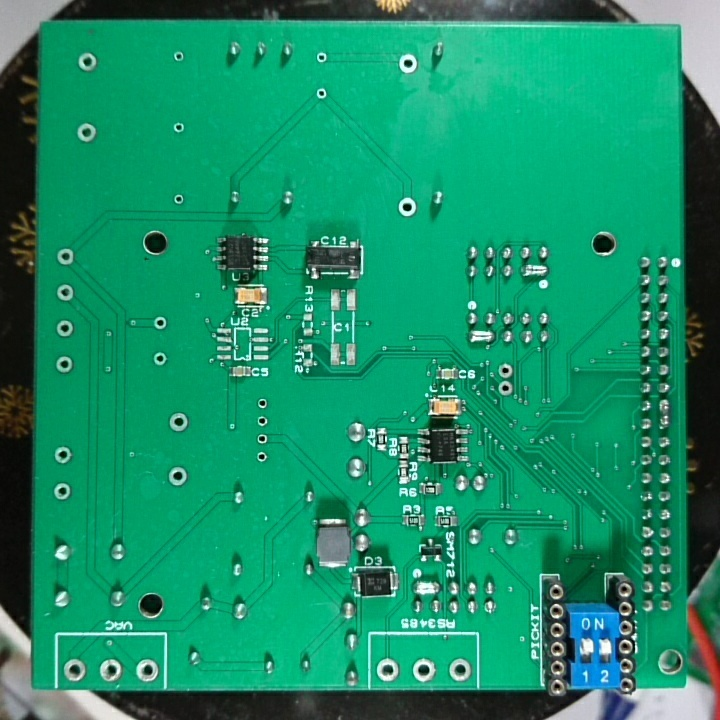F: (133, 655, 161, 685), (97, 656, 124, 684), (411, 657, 437, 685), (62, 656, 88, 684), (395, 49, 419, 79), (374, 656, 400, 683), (447, 657, 472, 683), (165, 410, 190, 436), (165, 463, 189, 489), (74, 120, 98, 146), (53, 280, 77, 305), (77, 50, 99, 76), (51, 480, 74, 504), (148, 348, 172, 371), (54, 245, 77, 269), (396, 196, 419, 220), (53, 318, 76, 341), (53, 352, 75, 376), (51, 443, 73, 466), (150, 312, 171, 334), (496, 378, 516, 398), (496, 361, 517, 380), (254, 413, 272, 431), (254, 395, 273, 412), (253, 449, 270, 466), (254, 431, 271, 448), (170, 121, 187, 138), (312, 49, 329, 65), (314, 85, 329, 103), (171, 190, 187, 206), (170, 48, 185, 64)
P: (519, 261, 549, 278), (411, 580, 441, 597), (468, 327, 494, 346), (657, 397, 671, 429)
